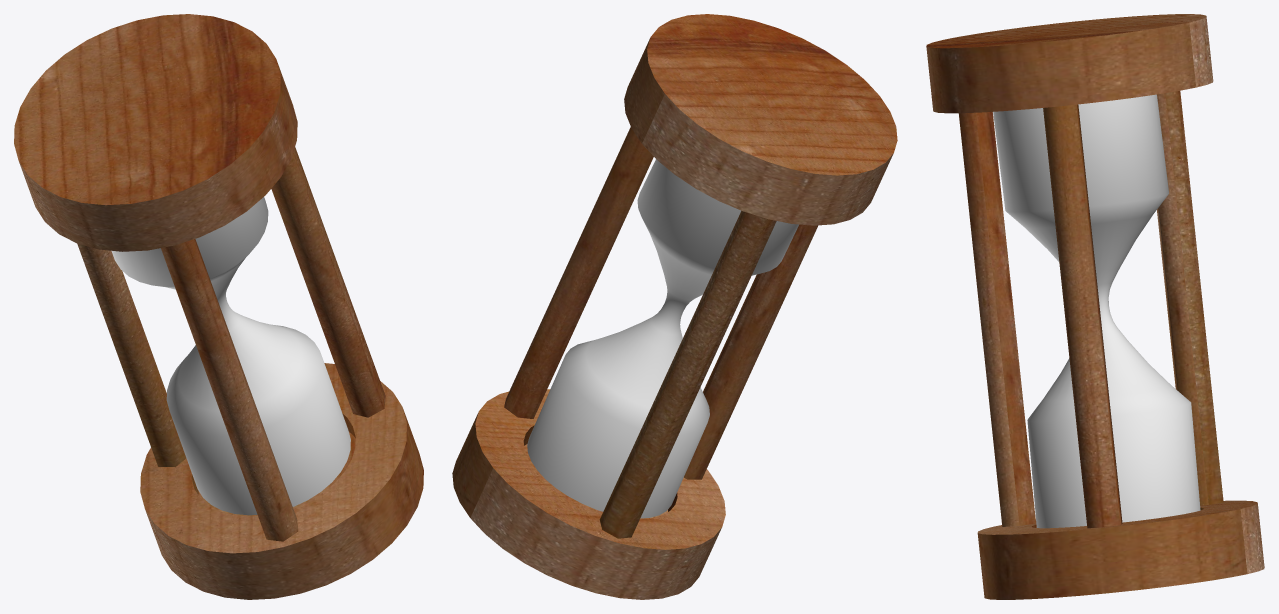
File: Hourglass 1.fbx
3 renders of one model, left to right at view 1: azimuth 30°, elevation 25°; view 2: azimuth 150°, elevation 25°; view 3: azimuth 270°, elevation 25°, orthographic. The views are drawn at different scales.
Visible parts, largest first — view 1: Hourglass; view 2: Hourglass; view 3: Hourglass.
Part boxes in pixels (x1,y1,x2,y2): Hourglass: (14,14,423,599); Hourglass: (452,14,897,599); Hourglass: (926,14,1264,599).
Size of the model in its own units: 107 by 143 by 77.65.
Materials: 2 (1 with a texture image).
